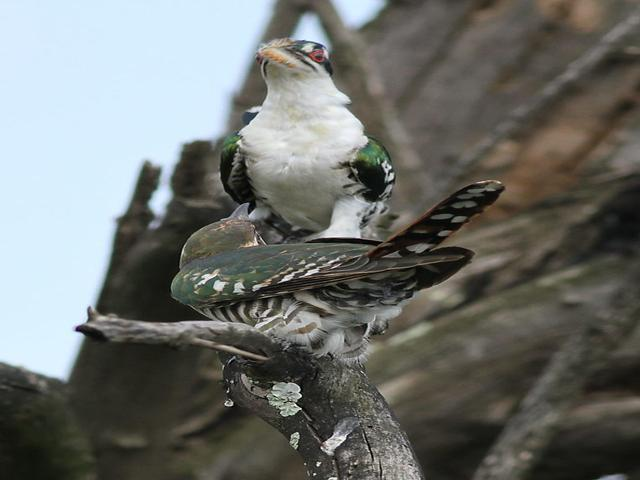bird: (150, 195, 523, 347), (208, 29, 441, 241)
